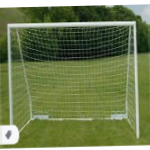goals: (5, 20, 142, 141)
